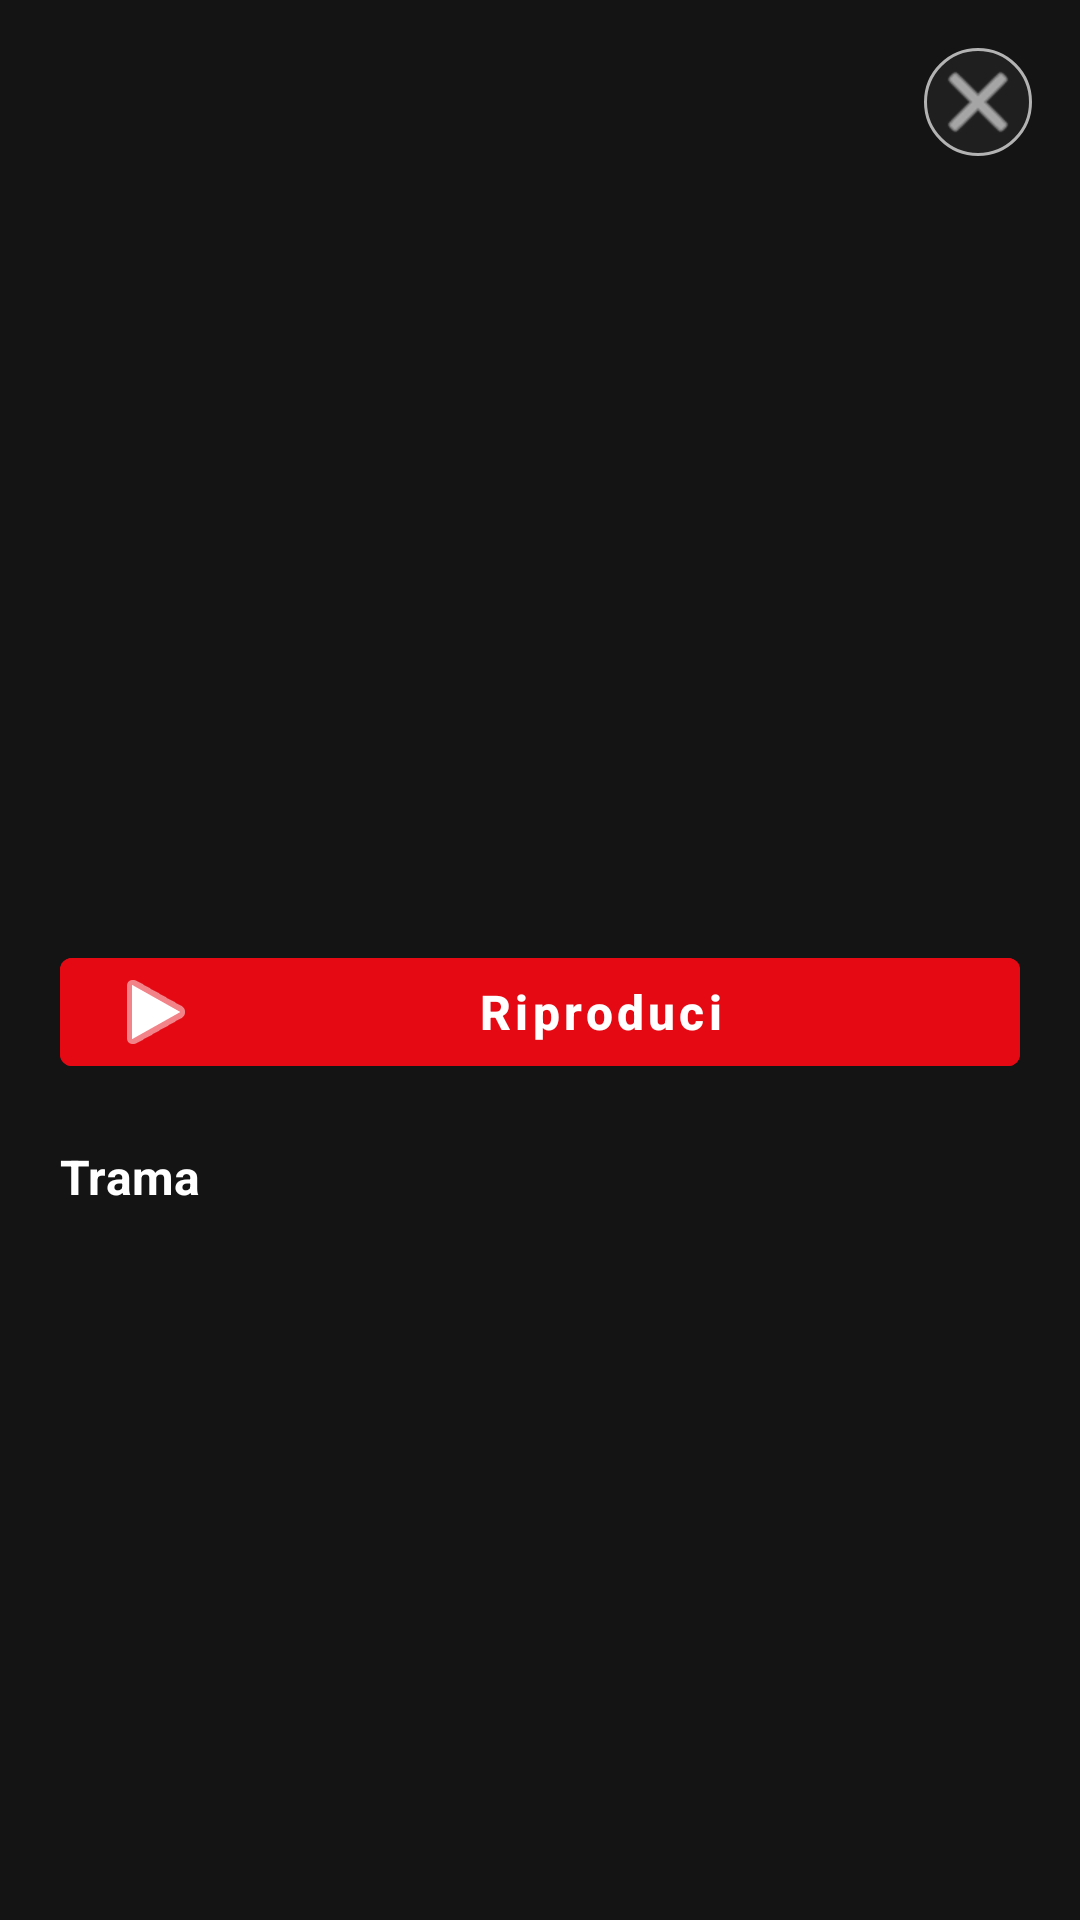

Where icons sit on this 1080 x 1920 app screen, as (x1, y1, x2, y2):
Close: (924, 48, 1032, 156)
